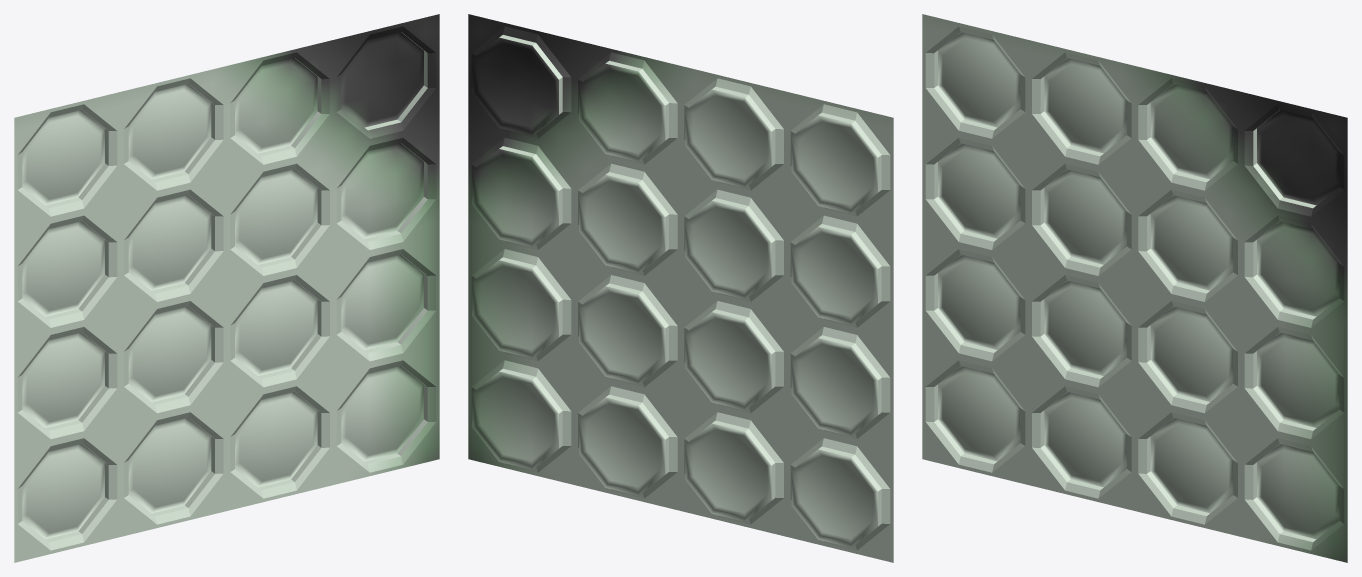
File: sci2_5.fbx
The picture shows the model from 3 angles, left to right: view 1: azimuth 30°, elevation 25°; view 2: azimuth 150°, elevation 25°; view 3: azimuth 330°, elevation 25°; orthographic projection.
Parts seen in each view (by area): view 1: sci2_5_mesh; view 2: sci2_5_mesh; view 3: sci2_5_mesh.
Part boxes in pixels (x1,y1,x2,y2): sci2_5_mesh: (14,14,439,562); sci2_5_mesh: (468,14,893,562); sci2_5_mesh: (922,14,1347,562).
Bounding box in the file's own units: 256 × 256 × 6.
